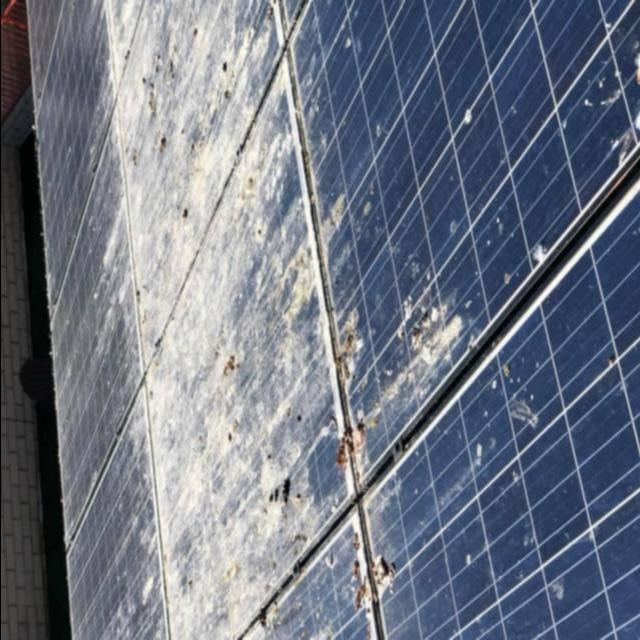soiled: (102, 2, 548, 640)
